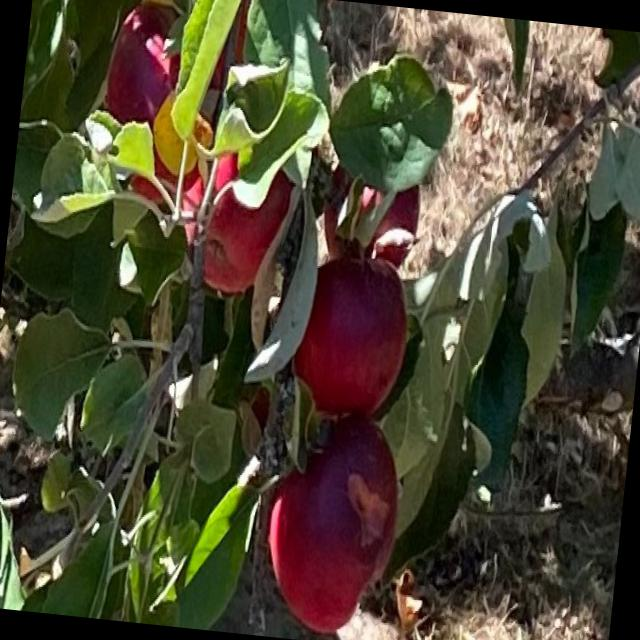Apples: (259, 408, 408, 636), (288, 253, 413, 426), (170, 143, 294, 299), (319, 164, 424, 272), (104, 2, 186, 132), (128, 128, 200, 206)
